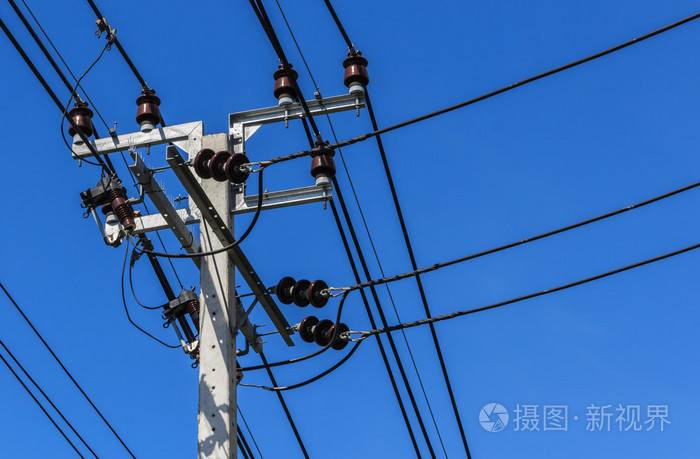insulator: (186, 147, 251, 181), (276, 274, 334, 310), (298, 317, 351, 348)
